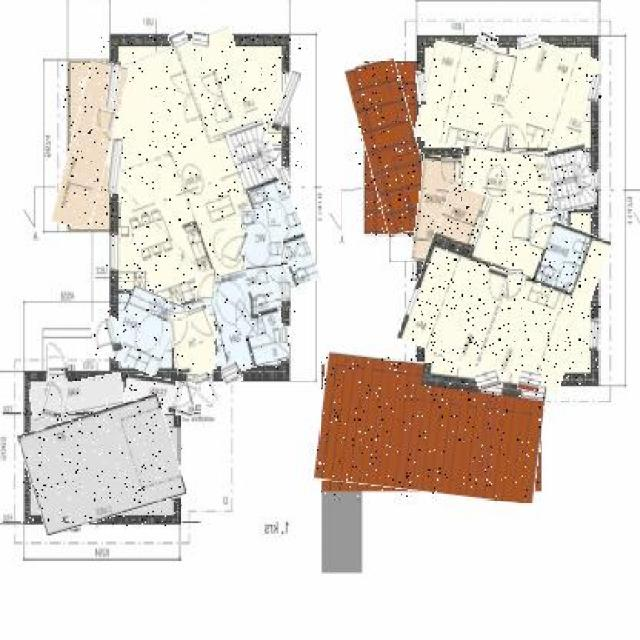window: (202, 69, 230, 125), (276, 71, 296, 132), (92, 318, 121, 356), (190, 304, 216, 344), (480, 266, 506, 305), (170, 382, 198, 418), (237, 298, 261, 336), (48, 342, 68, 384), (220, 228, 245, 260), (45, 382, 66, 420), (511, 208, 534, 242), (488, 118, 509, 154), (108, 138, 121, 194), (194, 372, 215, 405), (504, 269, 524, 300), (197, 270, 215, 302), (108, 63, 120, 109), (475, 369, 500, 389), (509, 119, 526, 148), (222, 363, 243, 385), (517, 372, 541, 391), (440, 158, 458, 182), (476, 32, 498, 51), (94, 111, 114, 131), (171, 320, 191, 340), (517, 35, 540, 51), (589, 318, 600, 351), (168, 30, 188, 48), (589, 74, 602, 101), (192, 32, 210, 51), (280, 283, 291, 311), (417, 72, 426, 105), (277, 168, 289, 186), (280, 326, 292, 343), (280, 244, 289, 264), (591, 171, 598, 192), (63, 515, 71, 523)
zone: (98, 35, 302, 323), (409, 197, 600, 385), (317, 357, 545, 497), (23, 403, 182, 526), (355, 61, 428, 237), (454, 148, 549, 277), (420, 43, 512, 151), (505, 43, 597, 151), (62, 61, 118, 228), (211, 266, 283, 369), (111, 289, 178, 371), (414, 157, 458, 261), (29, 377, 125, 417), (546, 144, 594, 210), (526, 211, 571, 272), (172, 311, 215, 372), (242, 209, 283, 269), (125, 376, 177, 412)
